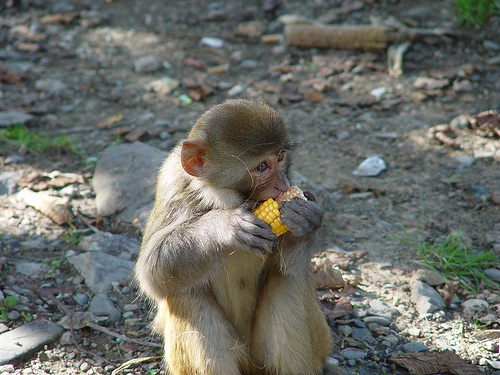corn: (252, 183, 311, 236)
